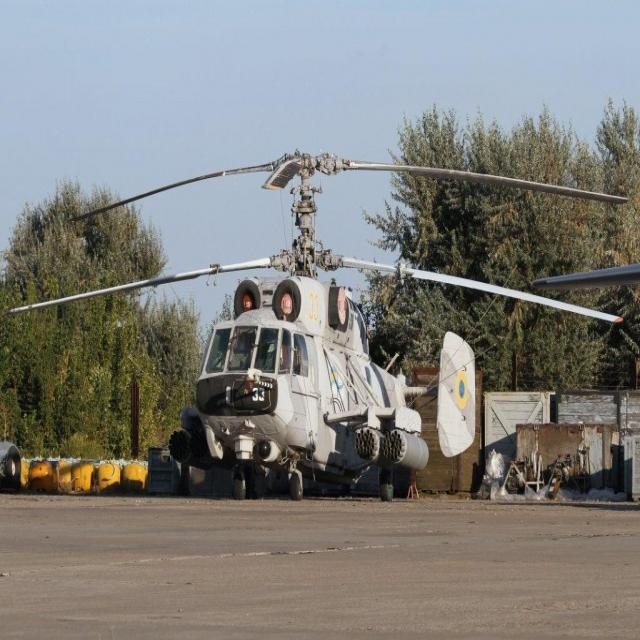MIL_HELO: (0, 124, 638, 506)
